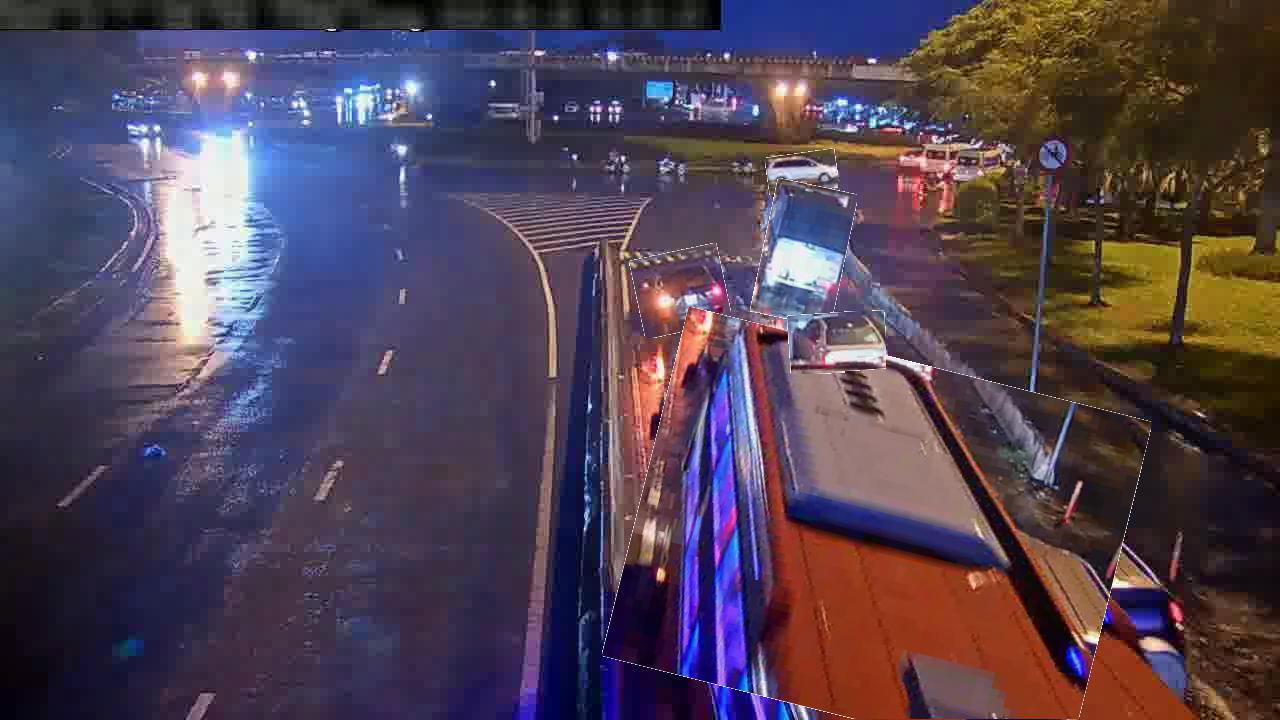14: (620, 333, 1135, 719)
8: (756, 182, 852, 324)
container: (633, 247, 729, 335), (788, 312, 887, 374), (766, 151, 838, 194)
